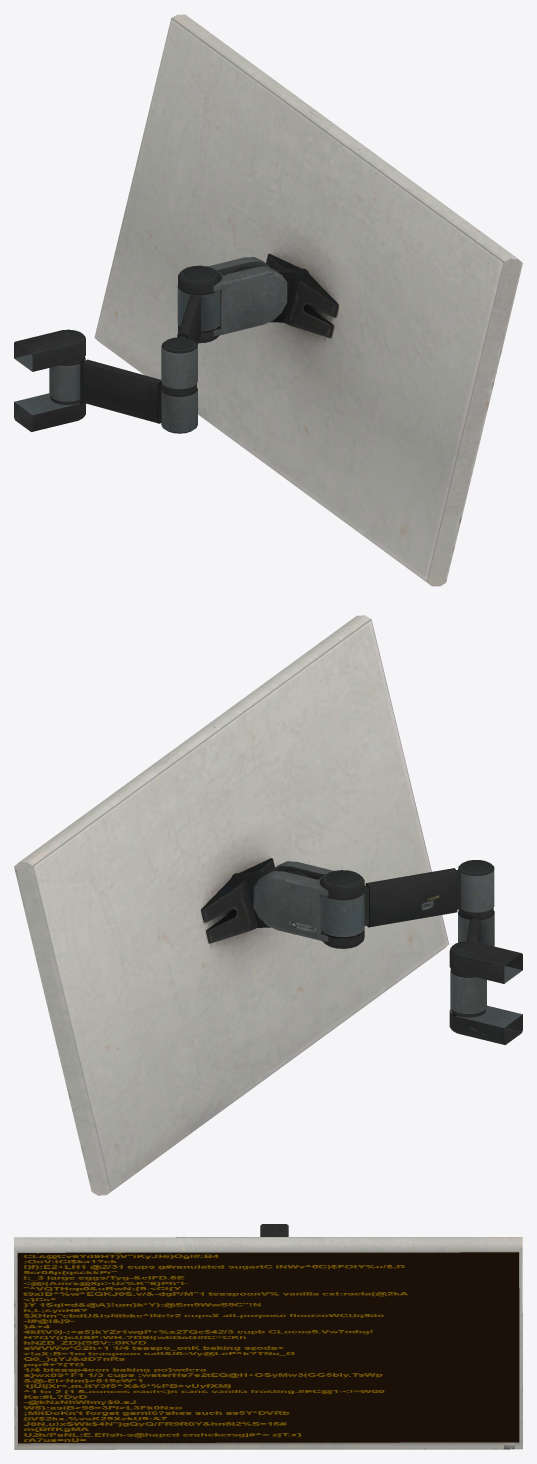
File: lab_monitor_03.glb
3 views of the same model, one above another, from view 1: azimuth 30°, elevation 25°; view 2: azimuth 150°, elevation 25°; view 3: azimuth 270°, elevation 25° (orthographic). The views are drawn at different scales.
Visible parts, largest first — view 1: lab_monitor_pose02_parts\obj\lab_monitor_pose03.obj; view 2: lab_monitor_pose02_parts\obj\lab_monitor_pose03.obj; view 3: lab_monitor_pose02_parts\obj\lab_monitor_pose03.obj.
Boxes of the visible parts, x1,y1,x2,y2 form: lab_monitor_pose02_parts\obj\lab_monitor_pose03.obj: (14,14,522,586); lab_monitor_pose02_parts\obj\lab_monitor_pose03.obj: (14,615,522,1195); lab_monitor_pose02_parts\obj\lab_monitor_pose03.obj: (14,1224,522,1449).
Size of the model in its own units: 0.5045 by 0.4557 by 0.8836.
2 materials, 2 textured.
